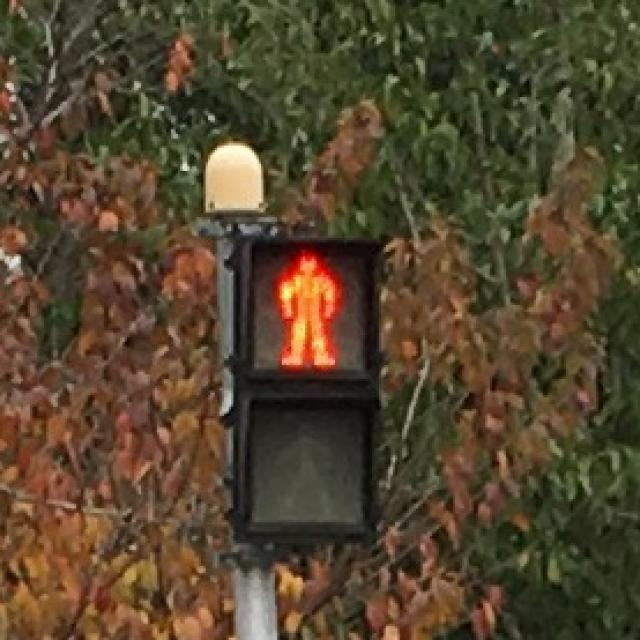red-crossing: (252, 240, 363, 372)
